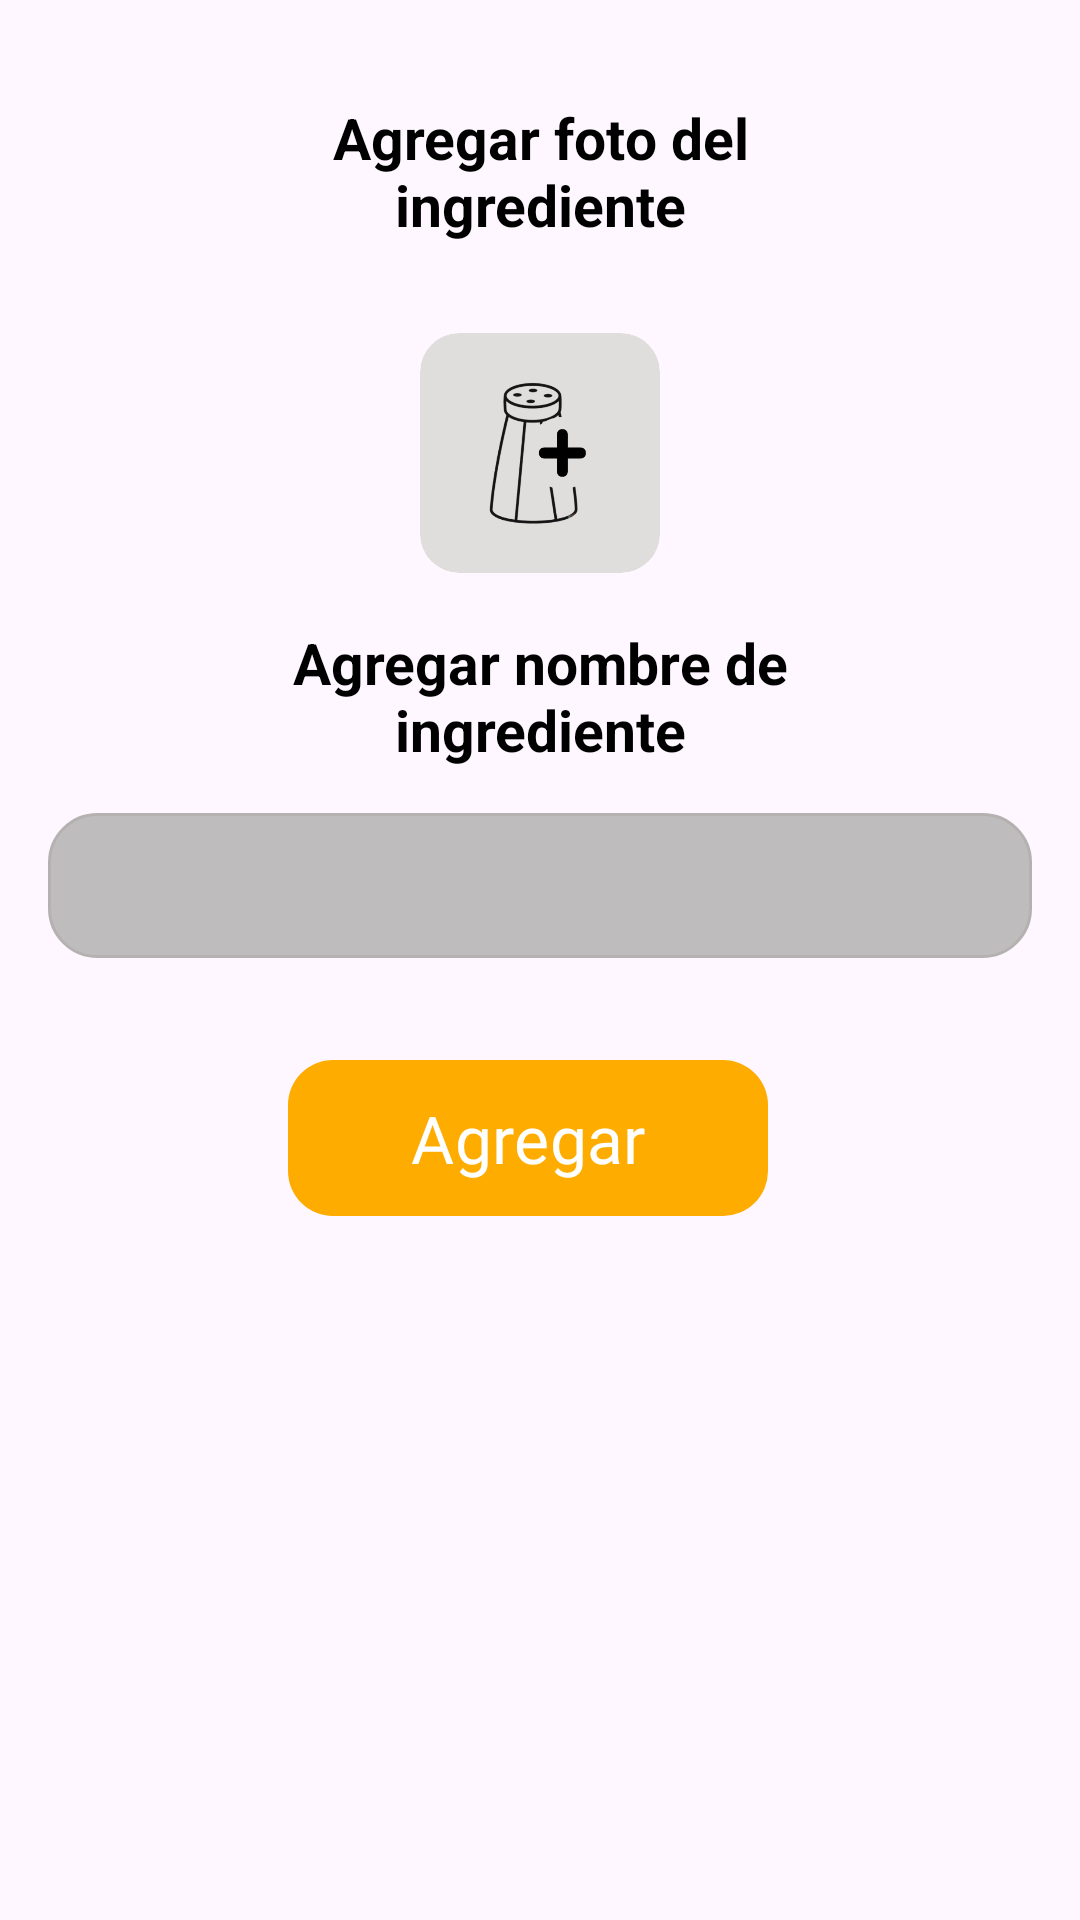

Where to tap for icons on this 1080px x 1920px app screen, as (x=x, y=y):
add ingrediente: (x=540, y=453)
